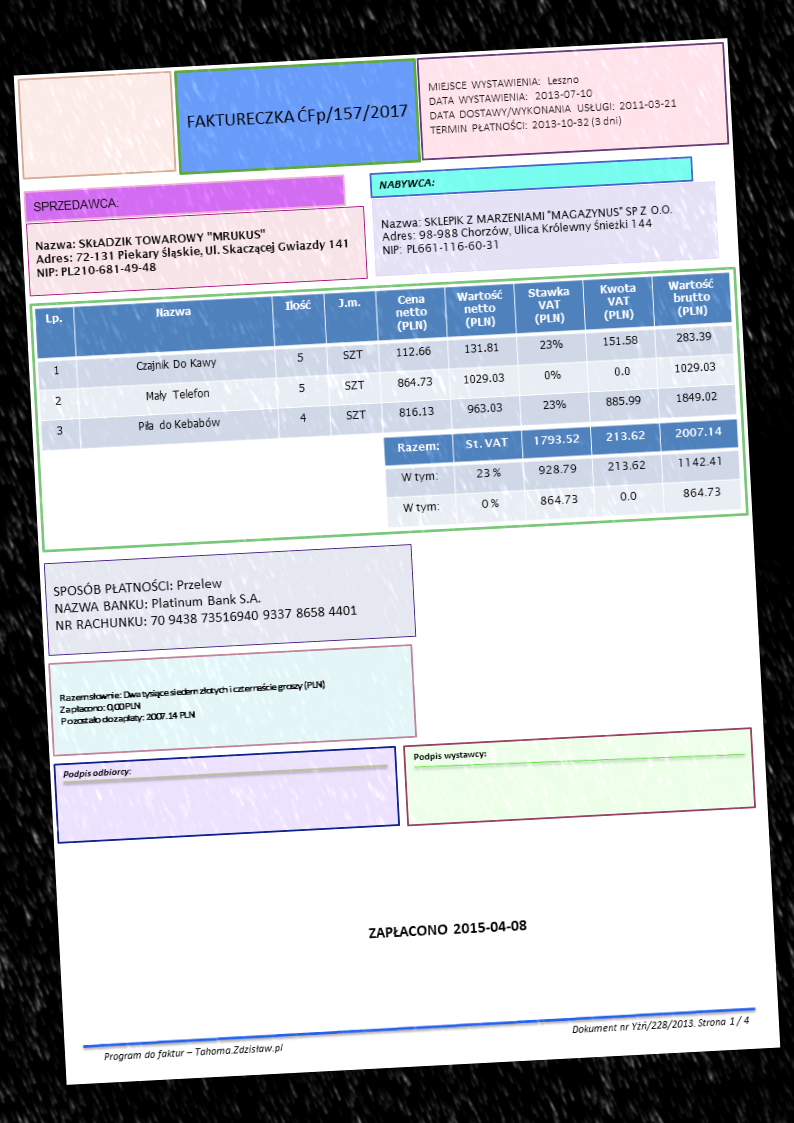Table: (32, 270, 735, 449), (380, 416, 744, 528)
TextBox: (47, 564, 361, 636), (31, 218, 351, 284), (421, 65, 682, 141), (376, 198, 677, 260), (56, 675, 332, 729), (178, 94, 411, 135), (97, 1035, 286, 1069), (360, 912, 531, 944), (569, 1012, 756, 1039), (27, 193, 121, 214), (59, 761, 135, 785), (405, 745, 489, 766), (375, 173, 435, 194)
